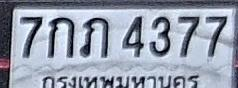3: (150, 15, 170, 56)
4: (122, 14, 144, 56)
7: (20, 16, 42, 58), (178, 14, 199, 56), (206, 14, 227, 56)
A01: (47, 16, 74, 58)
A32: (80, 17, 110, 58)
BKK: (39, 71, 202, 88)
